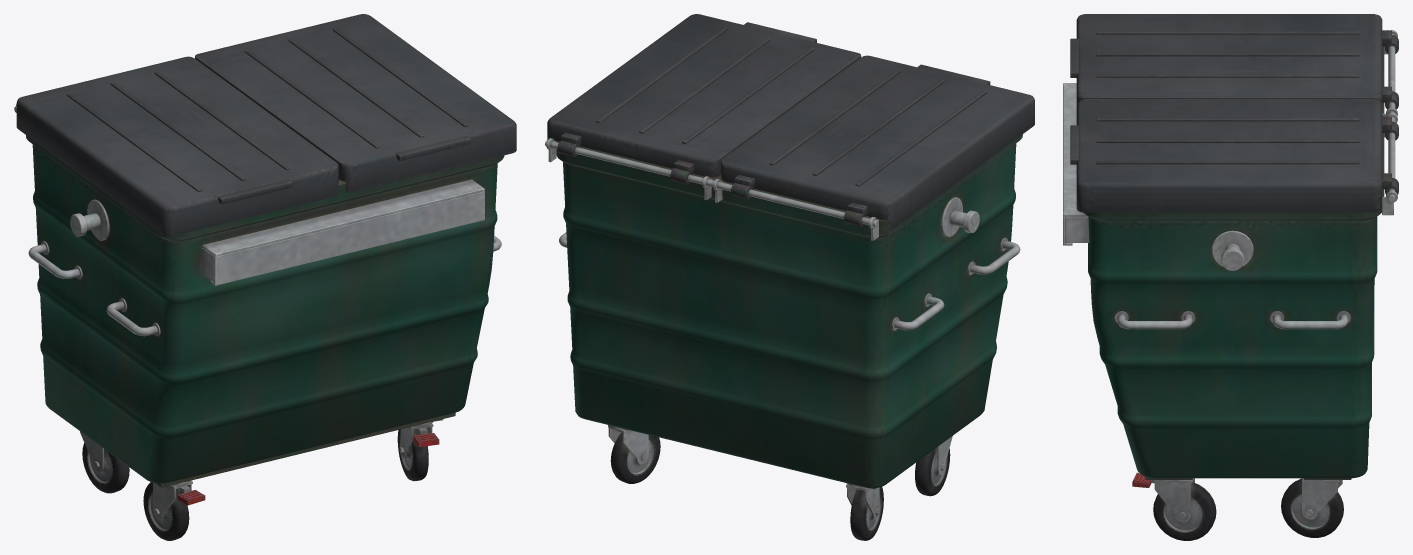
The model's file is dumpster.glb.
3 renders of one model, left to right at view 1: azimuth 30°, elevation 25°; view 2: azimuth 150°, elevation 25°; view 3: azimuth 270°, elevation 25°, orthographic. The views are drawn at different scales.
Parts seen in each view (by area): view 1: dumpster_body; view 2: dumpster_body; view 3: dumpster_body.
Boxes of the visible parts, <box> form: dumpster_body: <box>14,14,516,540</box>; dumpster_body: <box>545,14,1034,540</box>; dumpster_body: <box>1063,14,1398,540</box>.
Bounding box in the file's own units: 1.38 × 1.33 × 1.06.
Materials: 1 (1 with a texture image).
